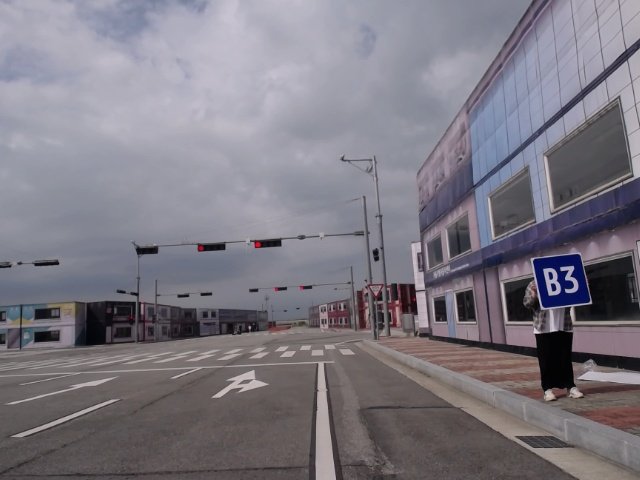delivery_b3: (529, 254, 592, 309)
red_4: (196, 241, 229, 252), (252, 237, 284, 248), (298, 284, 314, 292), (273, 285, 289, 292)
